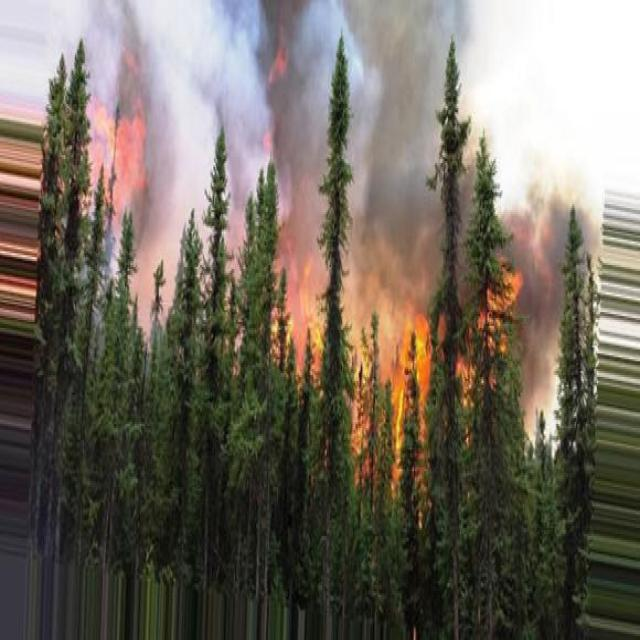fire: (248, 240, 522, 512), (77, 96, 151, 265)
